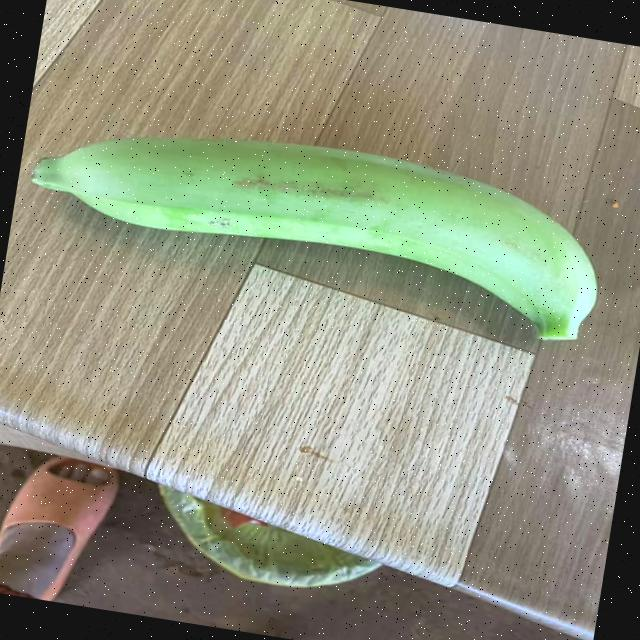Raw: (3, 76, 640, 370)
